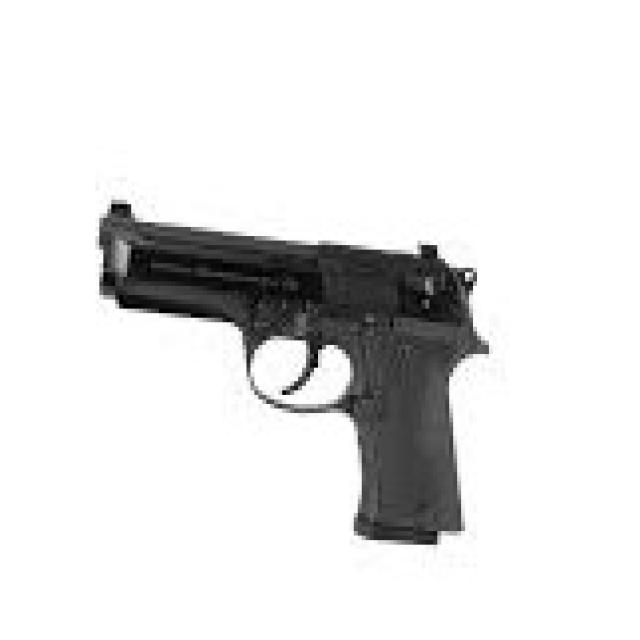pistol: (81, 185, 487, 555)
